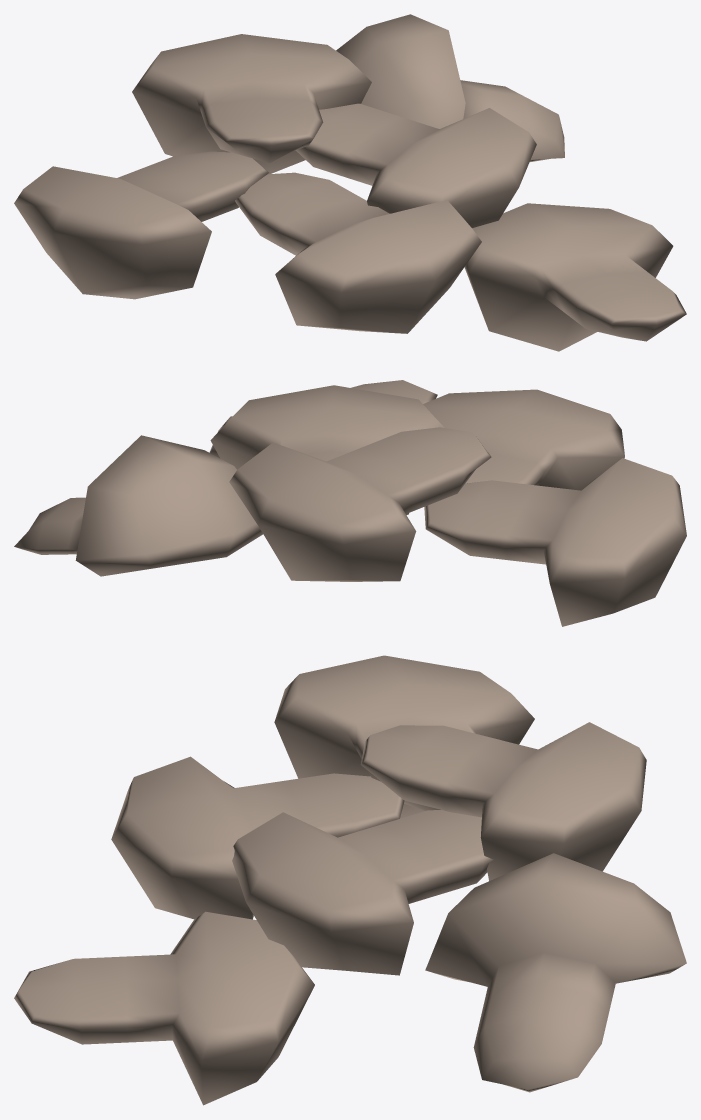
Rendered from pileMushrooms.glb.
3 views of the same model, one above another, from view 1: azimuth 30°, elevation 25°; view 2: azimuth 150°, elevation 25°; view 3: azimuth 270°, elevation 25° (orthographic). The views are drawn at different scales.
Visible parts, largest first — view 1: polySurface163, polySurface129, polySurface128, polySurface130, polySurface161; view 2: polySurface163, polySurface130, polySurface161, polySurface129, polySurface128; view 3: polySurface163, polySurface128, polySurface161, polySurface129, polySurface130.
Boxes of the visible parts, bbox=[...] form: polySurface163: bbox=[296, 14, 564, 227]; polySurface129: bbox=[235, 172, 481, 333]; polySurface128: bbox=[464, 203, 686, 351]; polySurface130: bbox=[14, 151, 269, 299]; polySurface161: bbox=[132, 34, 371, 174]; polySurface163: bbox=[14, 385, 444, 576]; polySurface130: bbox=[424, 458, 686, 626]; polySurface161: bbox=[229, 427, 491, 581]; polySurface129: bbox=[423, 389, 624, 490]; polySurface128: bbox=[209, 380, 437, 514]; polySurface163: bbox=[232, 810, 686, 1092]; polySurface128: bbox=[14, 911, 314, 1105]; polySurface161: bbox=[360, 722, 646, 880]; polySurface129: bbox=[111, 756, 404, 919]; polySurface130: bbox=[274, 655, 534, 818].
Bounding box in the file's own units: 0.028 × 0.0102 × 0.0253.
